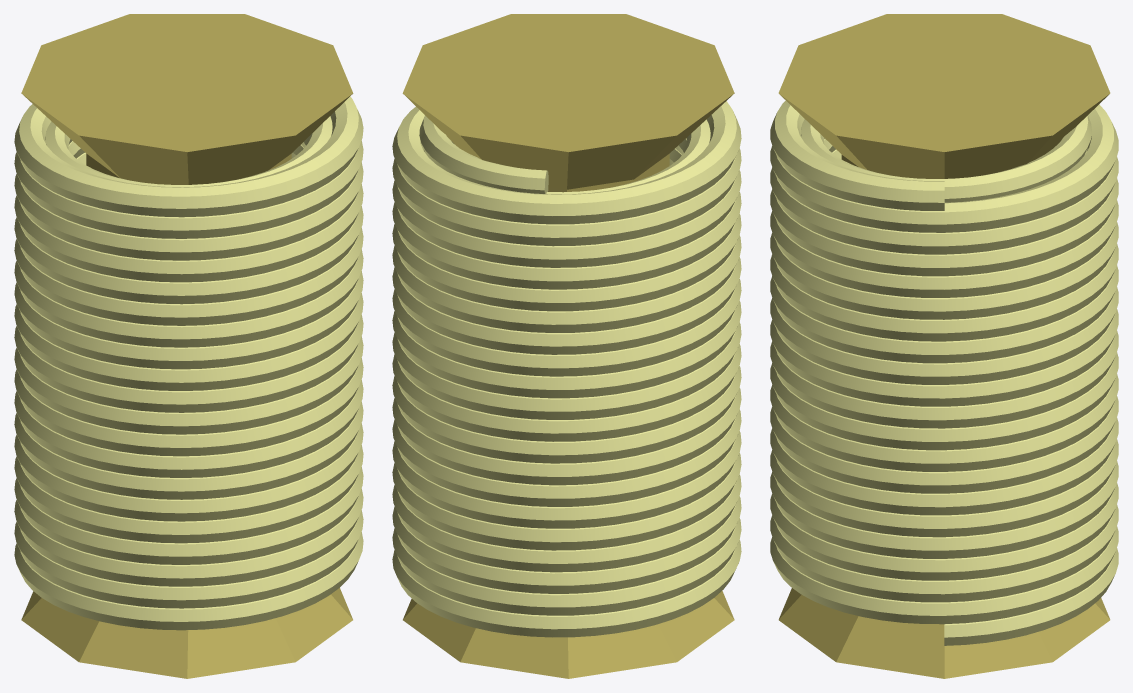
Rendered from Twine.fbx.
3 renders of one model, left to right at view 1: azimuth 30°, elevation 25°; view 2: azimuth 150°, elevation 25°; view 3: azimuth 270°, elevation 25°, orthographic.
Parts seen in each view (by area): view 1: Twine; view 2: Twine; view 3: Twine.
Part boxes in pixels (<box>): Twine: <box>14,14,363,678</box>; Twine: <box>392,14,741,678</box>; Twine: <box>770,14,1118,678</box>.
Bounding box in the file's own units: 3.35 × 5.57 × 3.34.
